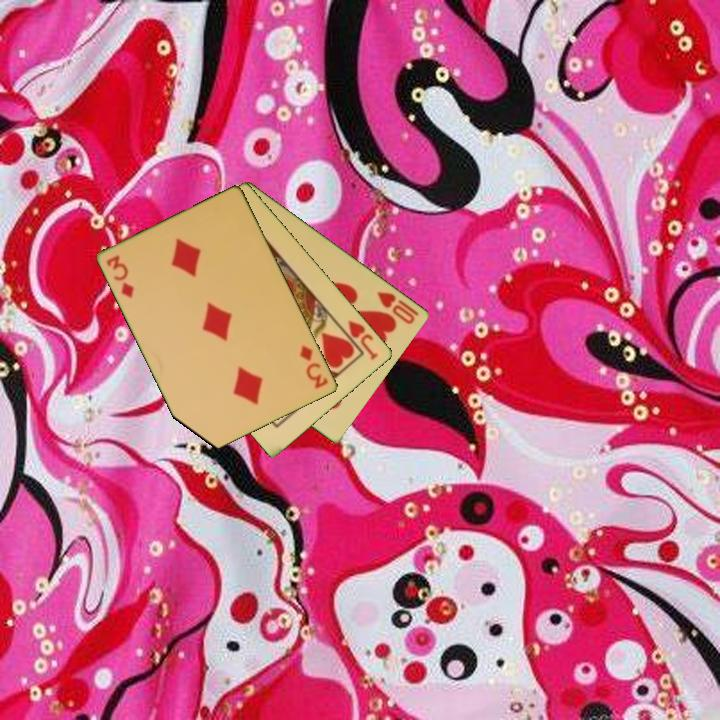10h: (374, 288, 422, 327)
3d: (296, 342, 332, 392), (103, 251, 137, 301)
Jh: (345, 316, 381, 363)
